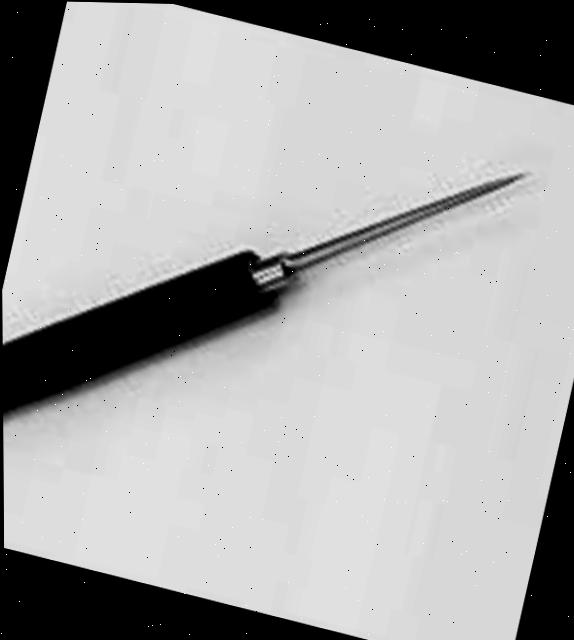ice pick: (0, 54, 534, 591)
